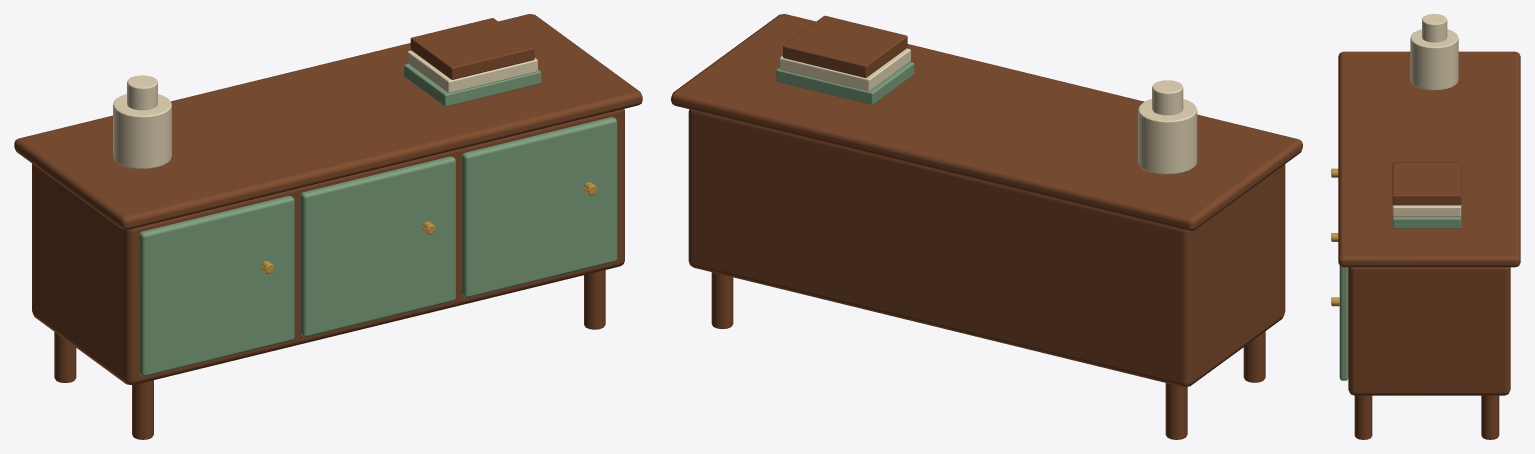
File: sideboard.glb
The picture shows the model from 3 angles, left to right: view 1: azimuth 30°, elevation 25°; view 2: azimuth 150°, elevation 25°; view 3: azimuth 270°, elevation 25°; orthographic projection. The views are drawn at different scales.
Visible parts, largest first — view 1: Cube.001, Cube, Cube.004, Cube.003, Cube.002, Cube.007, Cylinder.007, Cube.005, Cube.006, Cylinder.001, Cylinder.003, Cylinder.008 (+1 smaller); view 2: Cube, Cube.001, Cube.007, Cylinder.007, Cube.005, Cube.006, Cylinder, Cylinder.002, Cylinder.008, Cylinder.001; view 3: Cube.001, Cube, Cube.007, Cylinder.007, Cube.004, Cube.005, Cube.006, Cylinder.003, Cylinder.002, Cylinder.008.
Part boxes in pixels (bbox=[...]): Cube.001: bbox=[14, 14, 642, 229]; Cube: bbox=[32, 109, 624, 384]; Cube.004: bbox=[461, 117, 617, 297]; Cube.003: bbox=[300, 156, 455, 336]; Cube.002: bbox=[139, 196, 294, 376]; Cube.007: bbox=[410, 18, 534, 79]; Cylinder.007: bbox=[113, 94, 171, 168]; Cube.005: bbox=[403, 64, 541, 106]; Cube.006: bbox=[407, 50, 537, 93]; Cylinder.001: bbox=[132, 380, 153, 439]; Cylinder.003: bbox=[584, 270, 605, 329]; Cylinder.008: bbox=[127, 75, 157, 110]; Cube: bbox=[688, 109, 1285, 386]; Cube.001: bbox=[671, 14, 1302, 230]; Cube.007: bbox=[783, 15, 907, 77]; Cylinder.007: bbox=[1138, 99, 1197, 174]; Cube.005: bbox=[776, 62, 914, 104]; Cube.006: bbox=[779, 48, 910, 91]; Cylinder: bbox=[1165, 383, 1187, 439]; Cylinder.002: bbox=[711, 272, 733, 328]; Cylinder.008: bbox=[1152, 80, 1183, 115]; Cylinder.001: bbox=[1243, 331, 1265, 382]; Cube.001: bbox=[1338, 51, 1520, 267]; Cube: bbox=[1348, 267, 1510, 395]; Cube.007: bbox=[1392, 162, 1461, 205]; Cylinder.007: bbox=[1410, 29, 1458, 90]; Cube.004: bbox=[1339, 266, 1348, 380]; Cube.005: bbox=[1392, 216, 1461, 228]; Cube.006: bbox=[1392, 204, 1461, 216]; Cylinder.003: bbox=[1354, 395, 1372, 439]; Cylinder.002: bbox=[1481, 395, 1499, 439]; Cylinder.008: bbox=[1422, 14, 1447, 42].
Bounding box in the file's own units: 1.94 × 1.11 × 0.7475.
